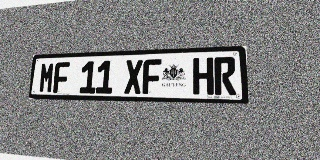1: (96, 60, 113, 94), (79, 61, 97, 93)
F: (142, 59, 161, 94), (53, 62, 70, 93)
H: (193, 57, 214, 95)
M: (38, 62, 55, 93)
R: (214, 57, 236, 95)
X: (124, 60, 143, 94)
